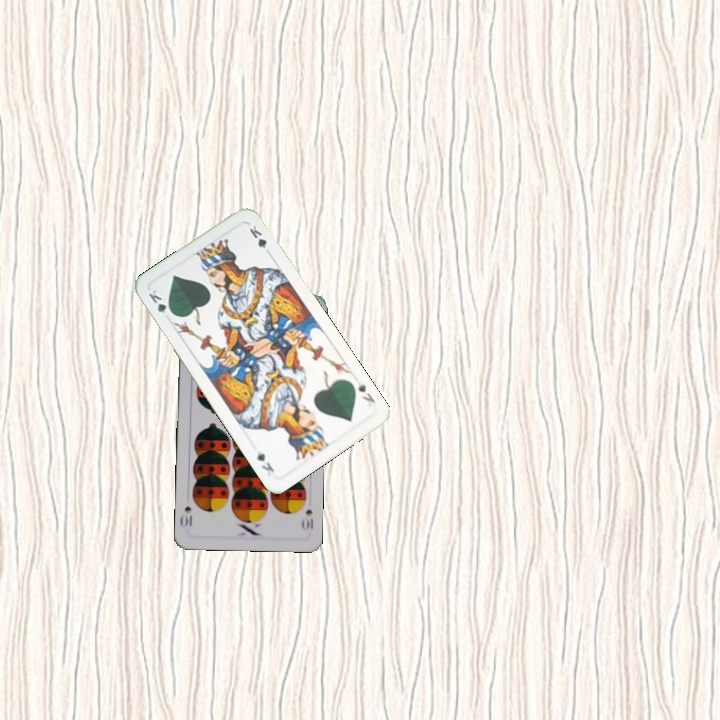GK: (144, 286, 177, 318), (352, 377, 378, 409)
S10: (298, 505, 315, 532)
